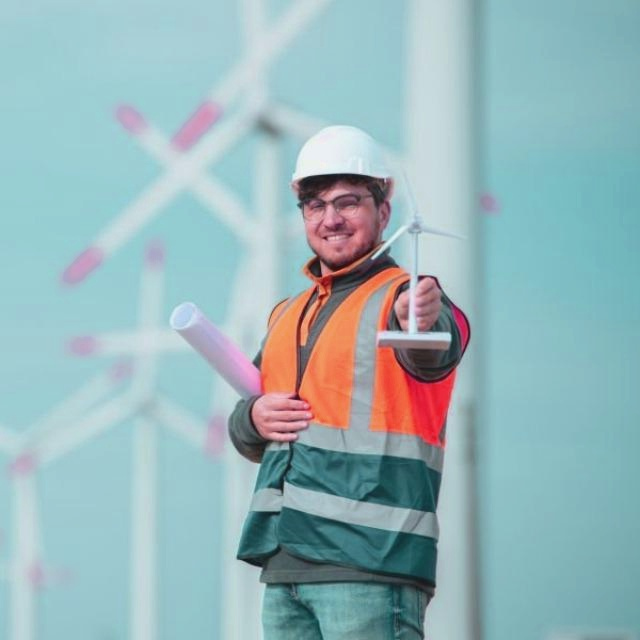Con_Casco: (290, 126, 395, 269)
Con_Chaleco: (243, 273, 457, 573)
